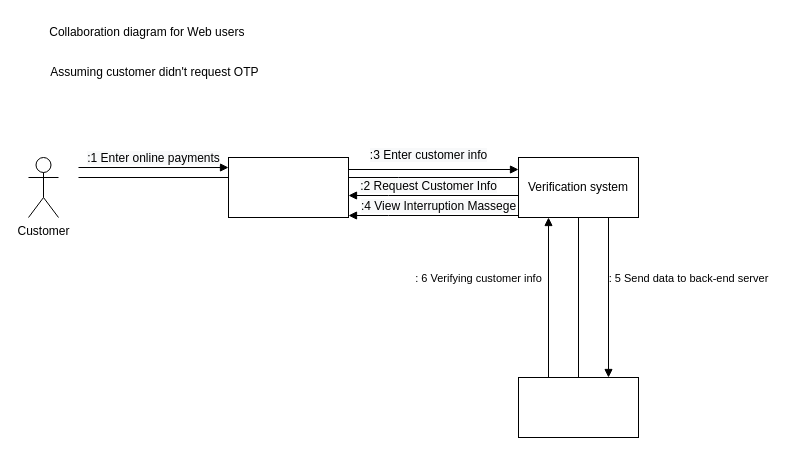
The diagram is 785 pixels wide and 455 high, and some of its shapes have lost their labels. The shapes that lost their labels are listed below. From the top down, each one's centre as x and y in pixels, then its label:
the point at 288,187: Machine UI
the point at 578,407: Database
